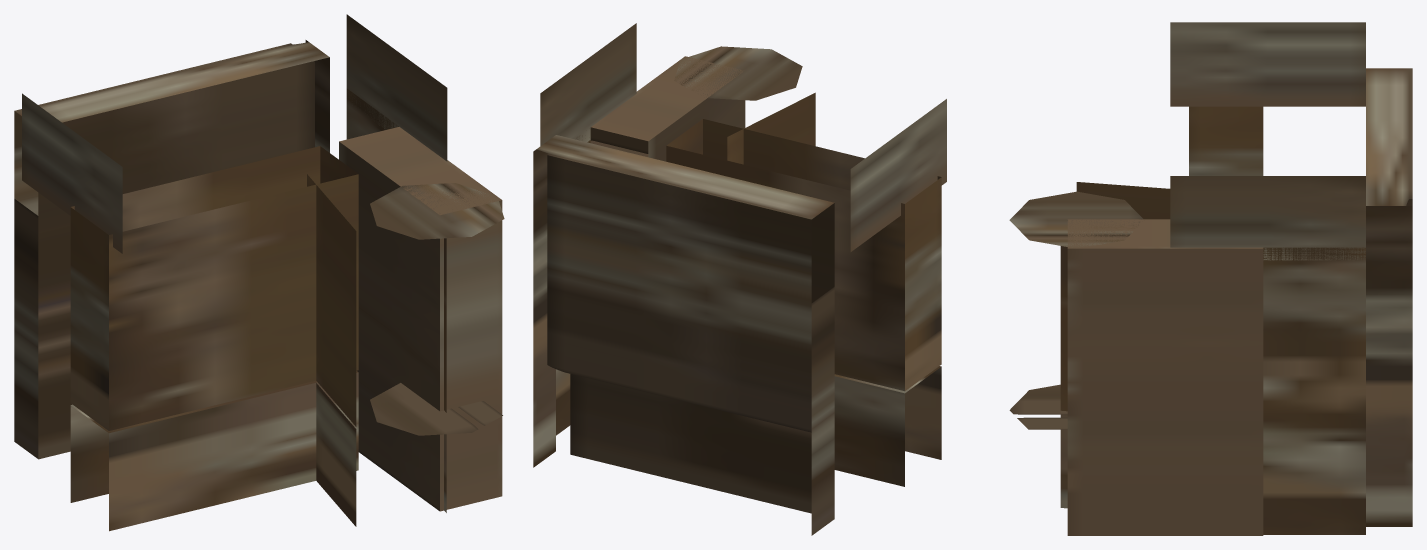
Rendered from section-6.obj.
3 views of the same model, side by side, from view 1: azimuth 30°, elevation 25°; view 2: azimuth 150°, elevation 25°; view 3: azimuth 270°, elevation 25° (orthographic). The views are drawn at different scales.
Size of the model in its own units: 0.8 by 0.865 by 0.865.
